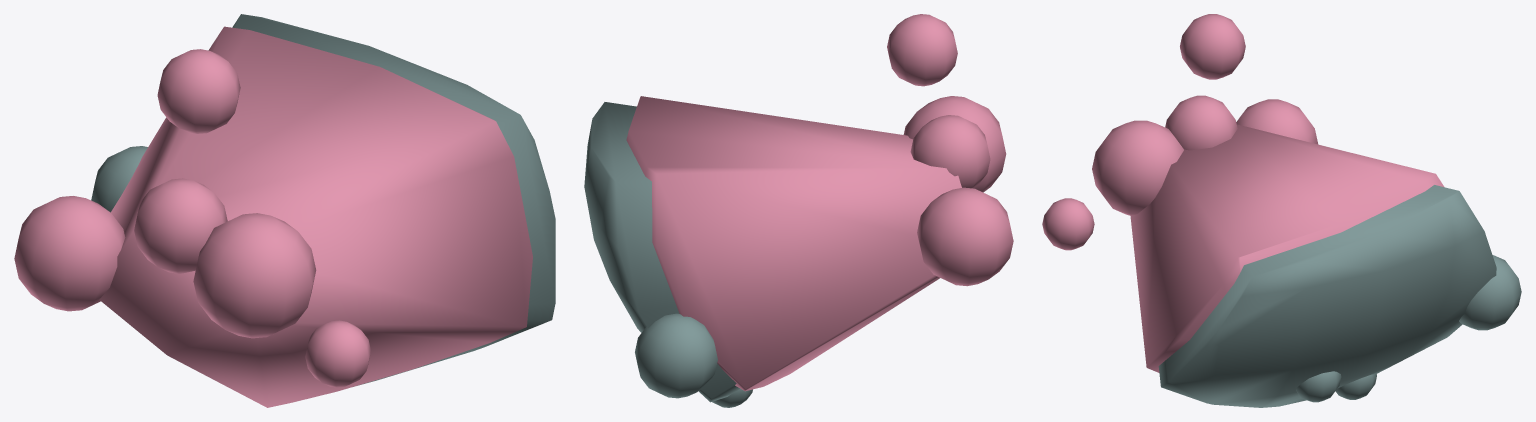
The model's file is chunk28.glb.
3 views of the same model, side by side, from view 1: azimuth 30°, elevation 25°; view 2: azimuth 150°, elevation 25°; view 3: azimuth 270°, elevation 25° (orthographic). The views are drawn at different scales.
Parts seen in each view (by area): view 1: flesh, skin; view 2: flesh, skin; view 3: flesh, skin.
Boxes of the visible parts, x1=… form: flesh: x1=14, y1=26, x2=532, y2=407; skin: x1=91, y1=14, x2=555, y2=385; flesh: x1=626, y1=14, x2=1013, y2=391; skin: x1=584, y1=102, x2=752, y2=407; flesh: x1=1042, y1=14, x2=1444, y2=372; skin: x1=1158, y1=185, x2=1521, y2=407.
Bounding box in the file's own units: 0.9643 × 0.797 × 1.05.
